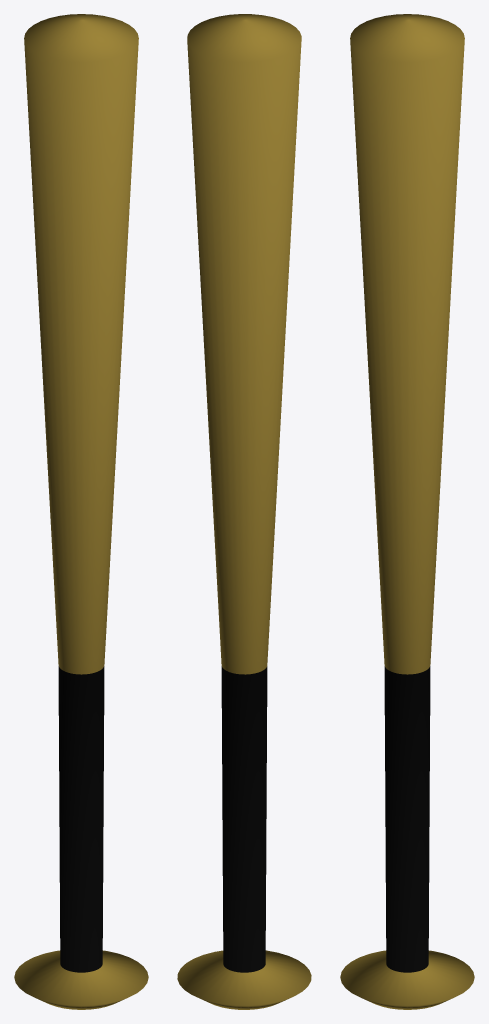
The model's file is bat.fbx.
The picture shows the model from 3 angles, left to right: view 1: azimuth 90°, elevation 25°; view 2: azimuth 150°, elevation 25°; view 3: azimuth 270°, elevation 25°; orthographic projection.
Parts seen in each view (by area): view 1: bat; view 2: bat; view 3: bat.
Boxes of the visible parts, x1,y1,x2,y2 form: bat: (14,14,148,1009); bat: (177,14,311,1009); bat: (340,14,474,1009).
Size of the model in its own units: 129 by 1028 by 129.
